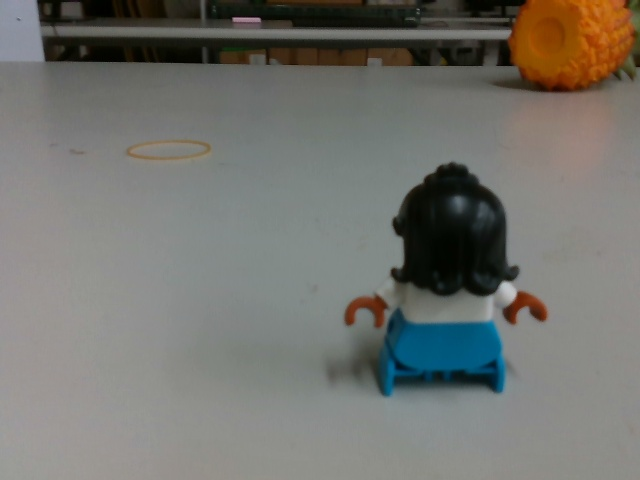people: (340, 156, 553, 401)
